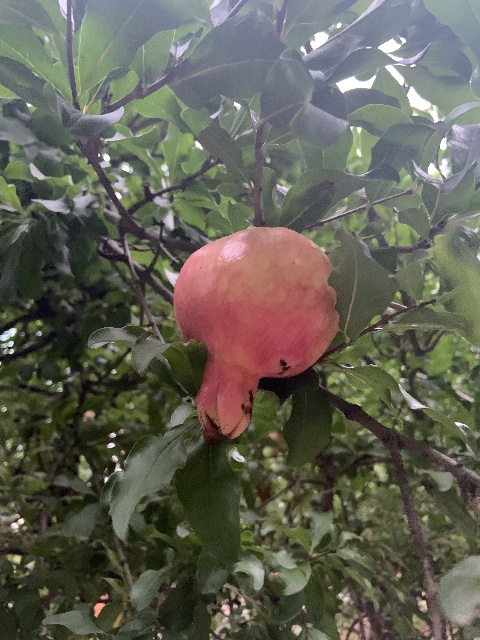ripe: (172, 226, 340, 442)
